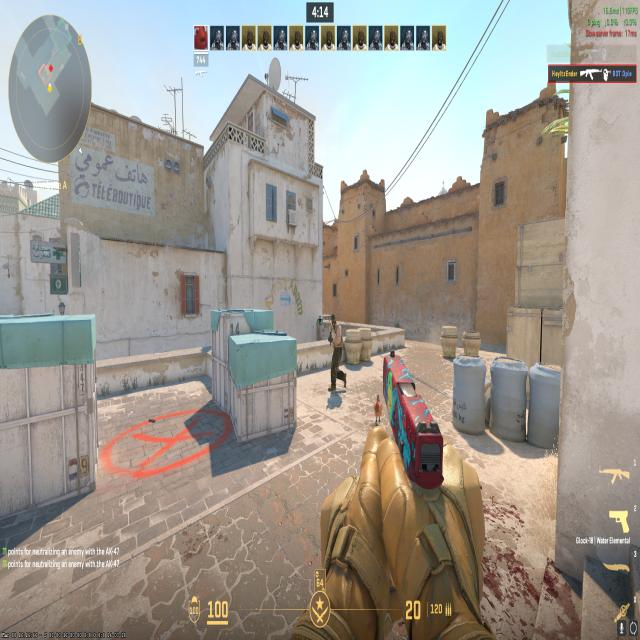t: (325, 313, 348, 395)
